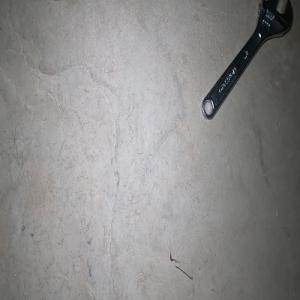Wrench: (201, 0, 292, 119)
